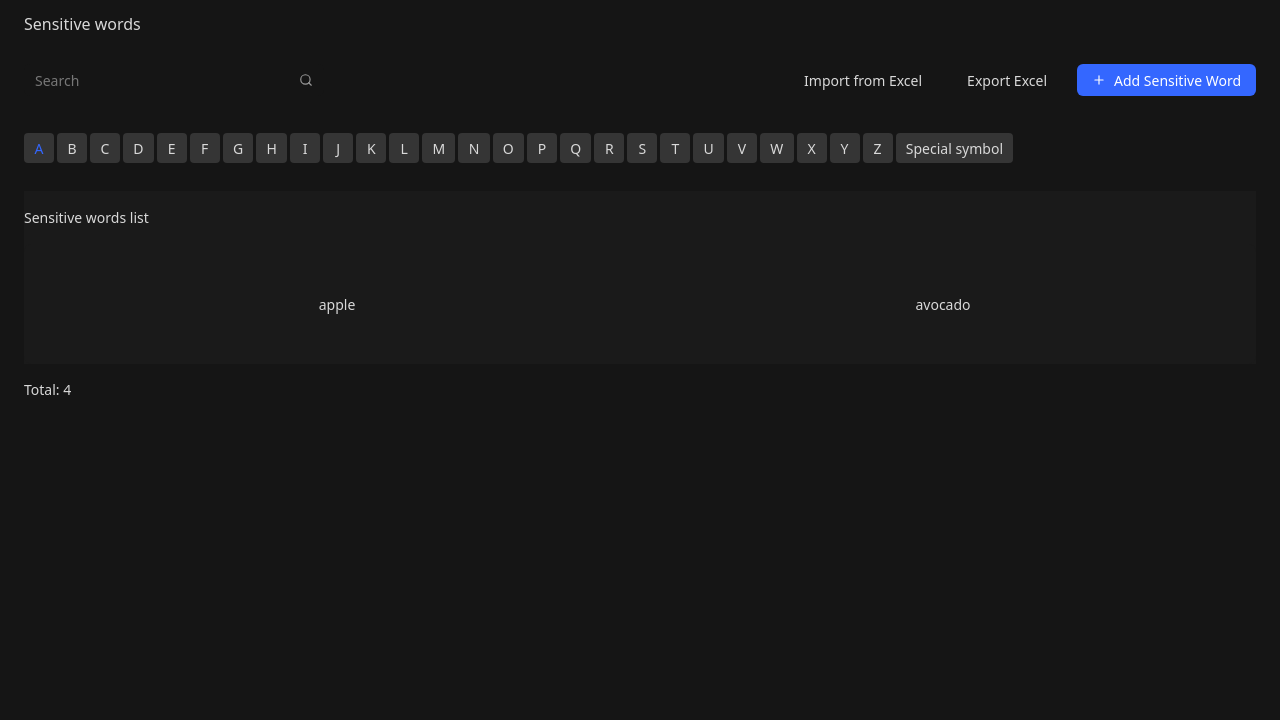
Scenario: SensitiveWordsPage › refuses an empty row in the Add dialog
Check: the list item "apple" is shown, box [319, 294, 355, 314]
What coordinates should you click on to do the following:
click the button "Add Sensitive Word"
I would click on:
 (1166, 80)
Its box is [1077, 64, 1256, 96].
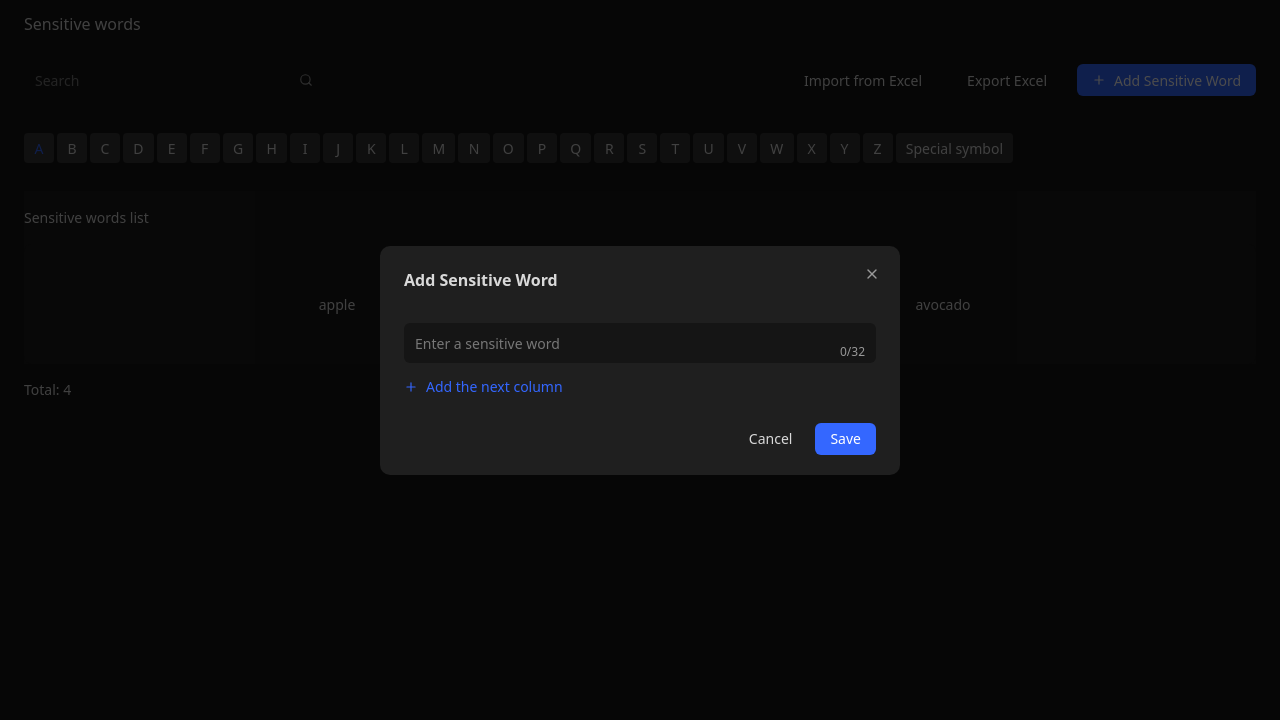
What coordinates should you click on to do the following:
click the button "Save"
I would click on:
 (846, 438)
Its box is [815, 422, 876, 454].
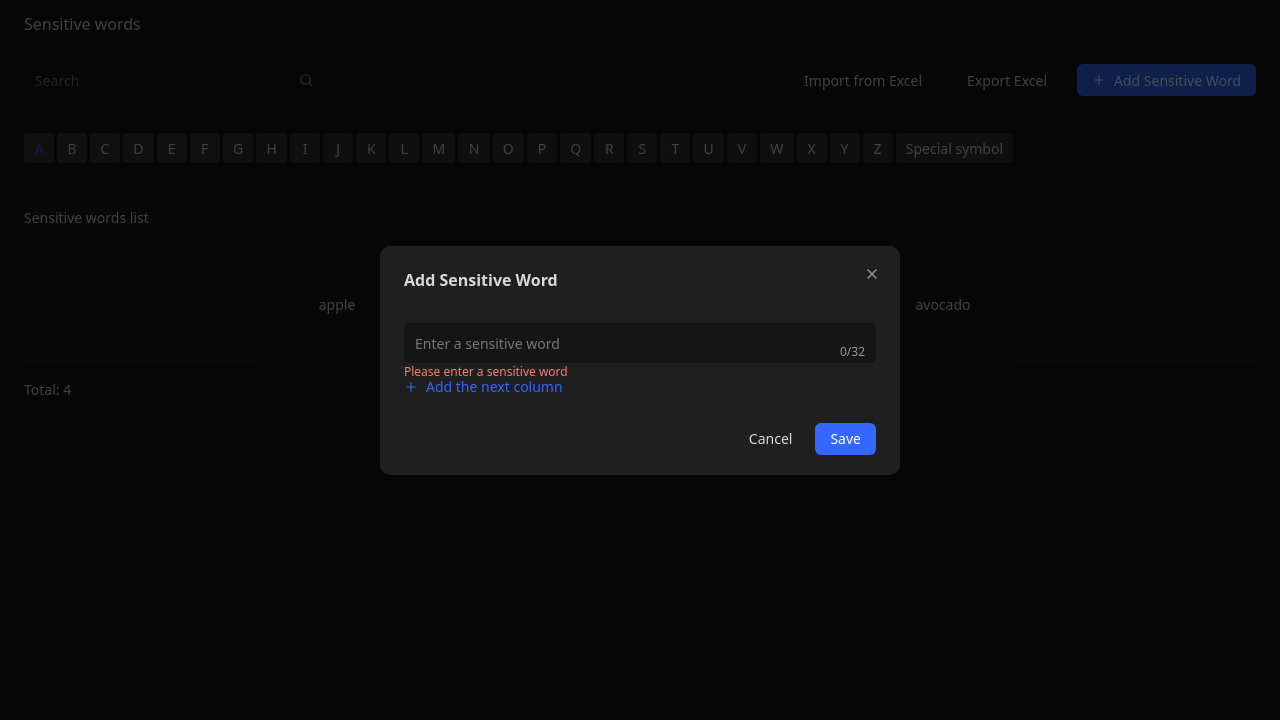
Check: the text "Please enter a sensitive word" is shown, box [404, 362, 568, 380]
